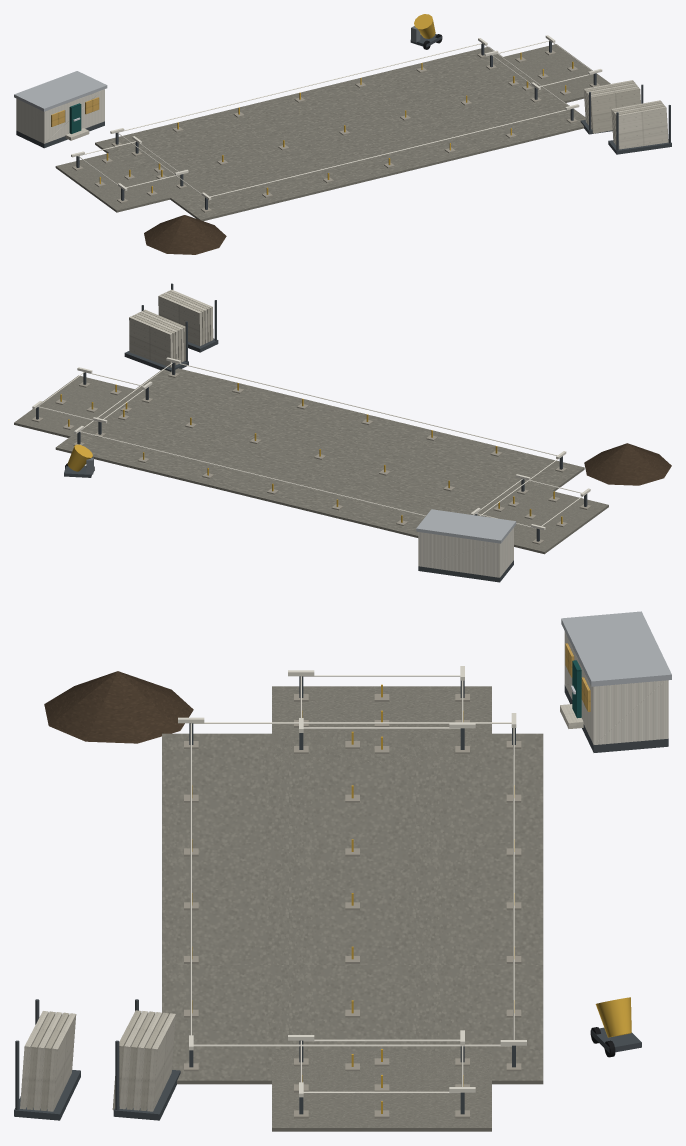
The model's file is fun-9-site.glb.
3 renders of one model, top to bottom at view 1: azimuth 30°, elevation 25°; view 2: azimuth 150°, elevation 25°; view 3: azimuth 270°, elevation 25°, orthographic. The views are drawn at different scales.
Size of the model in its own units: 36.39 by 2.95 by 22.43.
15 materials, 7 textured.
